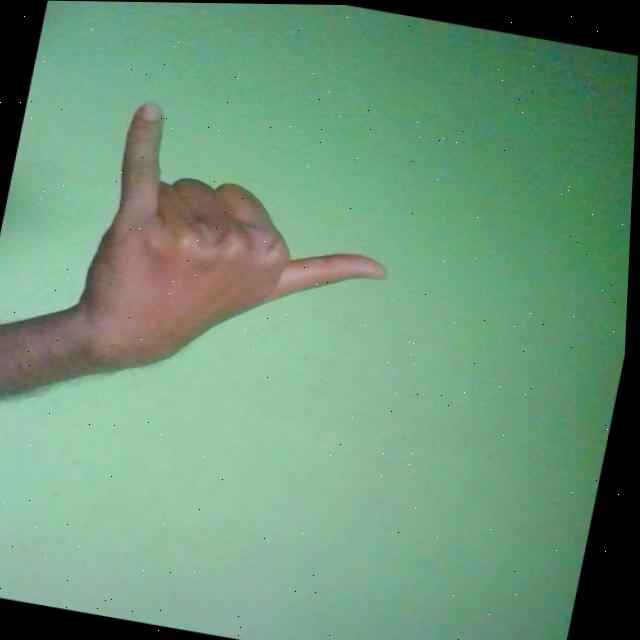Call Me: (61, 96, 418, 423)
